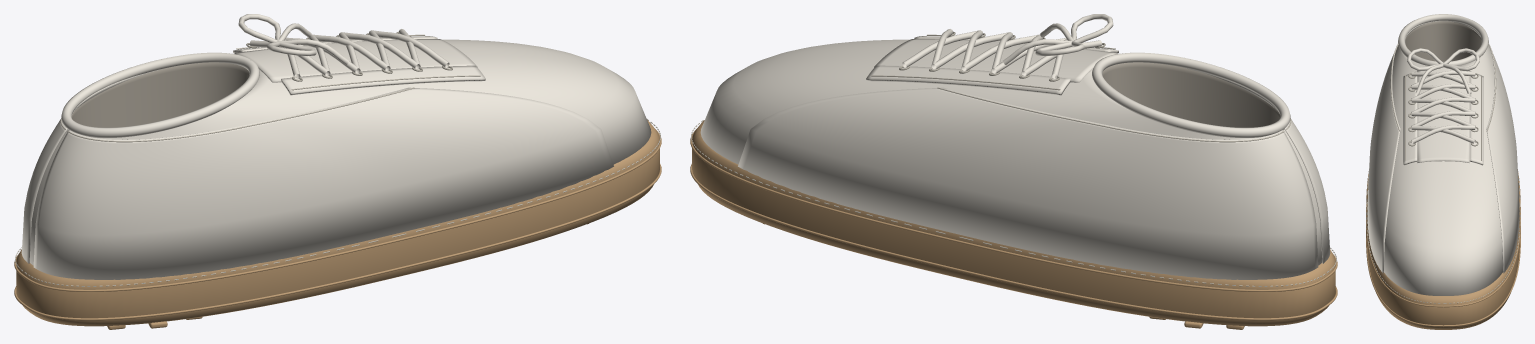
3 views of the same model, side by side, from view 1: azimuth 30°, elevation 25°; view 2: azimuth 150°, elevation 25°; view 3: azimuth 270°, elevation 25° (orthographic). The views are drawn at different scales.
Parts seen in each view (by area): view 1: panel, sole, upper, lining, laces, stitch; view 2: panel, sole, upper, lining, laces, stitch; view 3: upper, panel, sole, laces, lining, stitch, eyelet.
Boxes of the visible parts, x1,y1,x2,y2 form: panel: (21, 36, 613, 279); sole: (14, 120, 661, 329); upper: (29, 39, 651, 265); lining: (71, 62, 249, 127); laces: (238, 14, 449, 79); stitch: (15, 34, 660, 286); panel: (738, 36, 1330, 279); sole: (690, 120, 1337, 329); upper: (700, 39, 1322, 265); lining: (1102, 62, 1280, 127); laces: (902, 14, 1113, 79); stitch: (691, 34, 1336, 286); upper: (1383, 20, 1503, 295); panel: (1367, 14, 1519, 273); sole: (1366, 171, 1520, 329); laces: (1407, 48, 1479, 143); lining: (1405, 21, 1481, 61); stitch: (1366, 43, 1520, 303); eyelet: (1408, 73, 1478, 146).
Bounding box in the file's own units: 3.02 × 1.05 × 0.9453.
